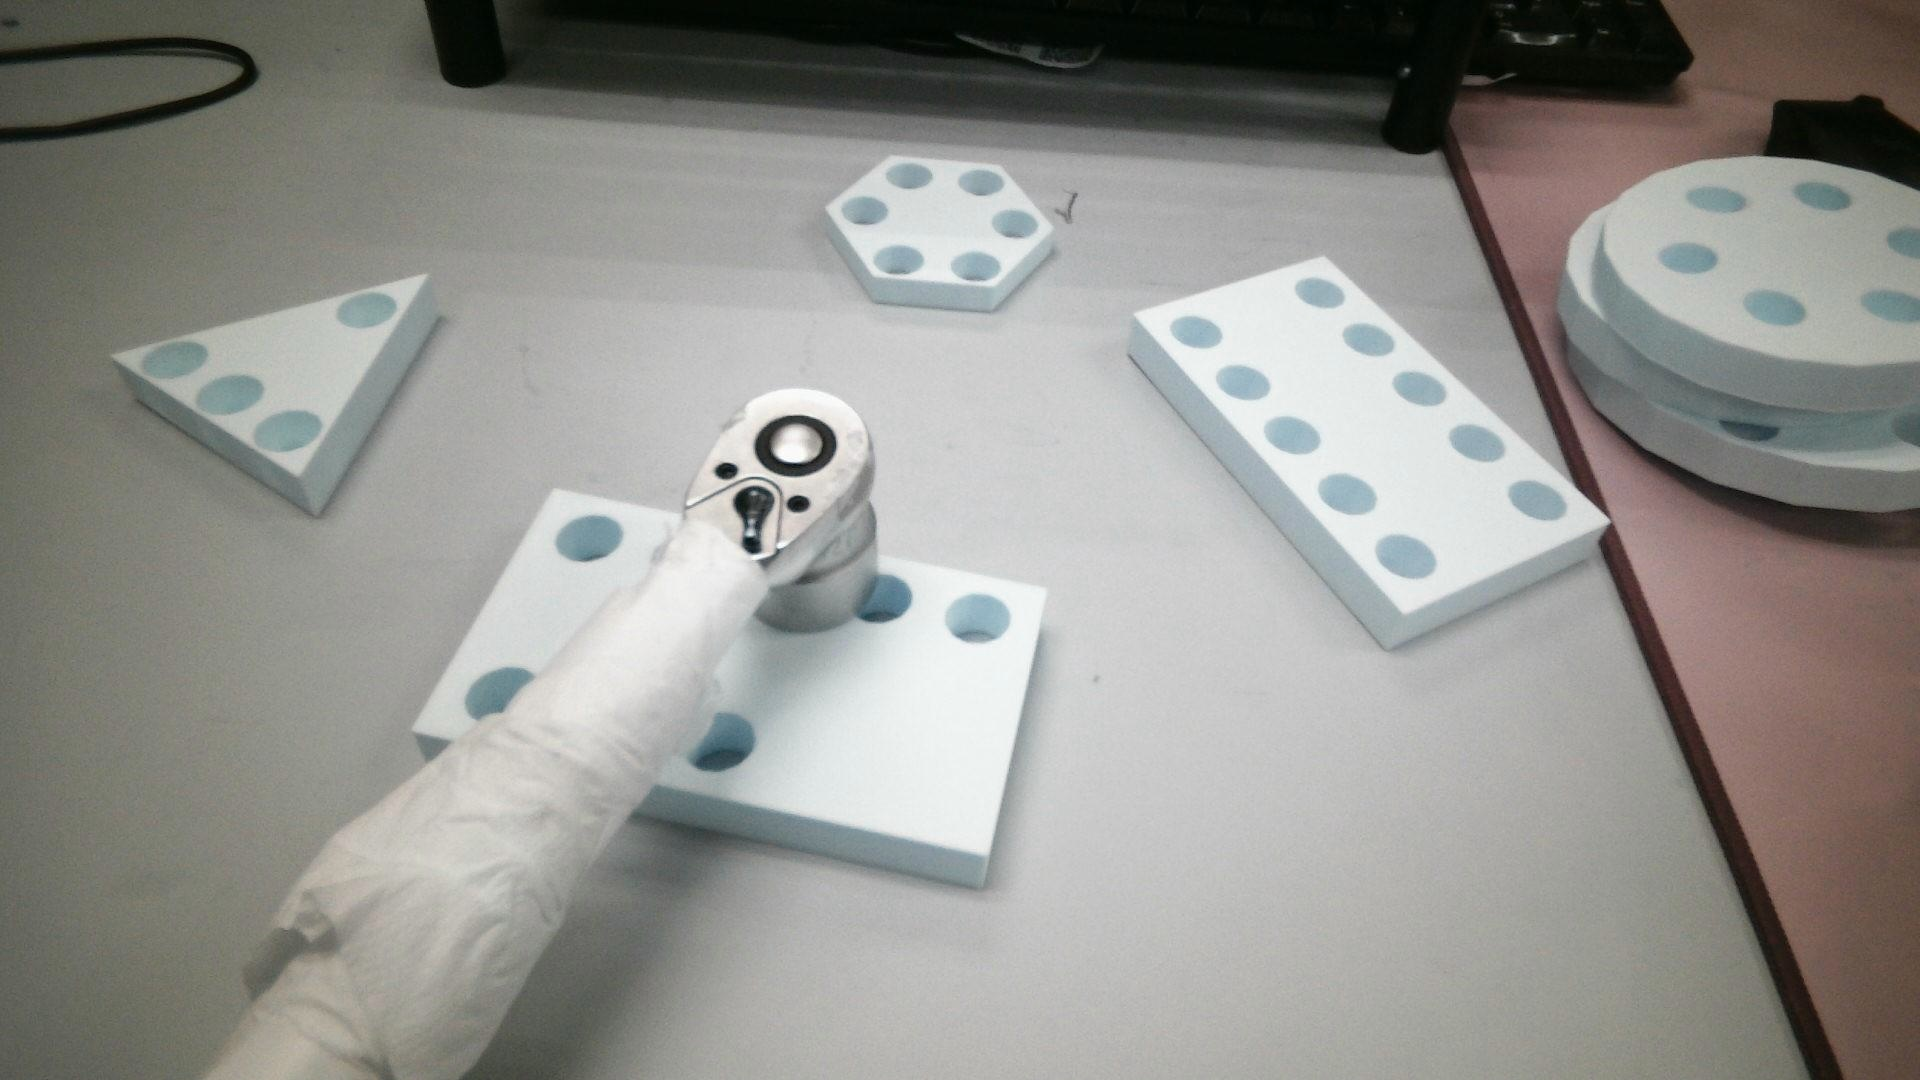hole: (684, 709, 752, 778), (938, 589, 1011, 645), (469, 666, 531, 721), (1371, 531, 1441, 580), (1509, 473, 1569, 529), (558, 512, 622, 563), (198, 367, 258, 415), (251, 406, 319, 448), (855, 568, 901, 629), (1170, 309, 1232, 353), (1447, 417, 1505, 463), (1216, 357, 1273, 402), (1385, 369, 1443, 410), (1857, 287, 1920, 324), (133, 340, 200, 375), (1658, 239, 1720, 276), (1745, 290, 1804, 327), (1320, 469, 1369, 514), (339, 290, 396, 328), (1796, 182, 1855, 218), (1338, 316, 1390, 357), (1294, 273, 1350, 307), (1266, 415, 1316, 454), (992, 208, 1044, 243), (1684, 185, 1741, 216), (872, 247, 924, 274), (955, 167, 1005, 196), (843, 193, 885, 225), (951, 251, 1000, 278), (886, 160, 924, 191)
obj: (415, 488, 1047, 919), (1117, 249, 1622, 740), (1556, 154, 1920, 564), (102, 262, 459, 538), (820, 138, 1060, 335)
wrench: (753, 415, 837, 477)
